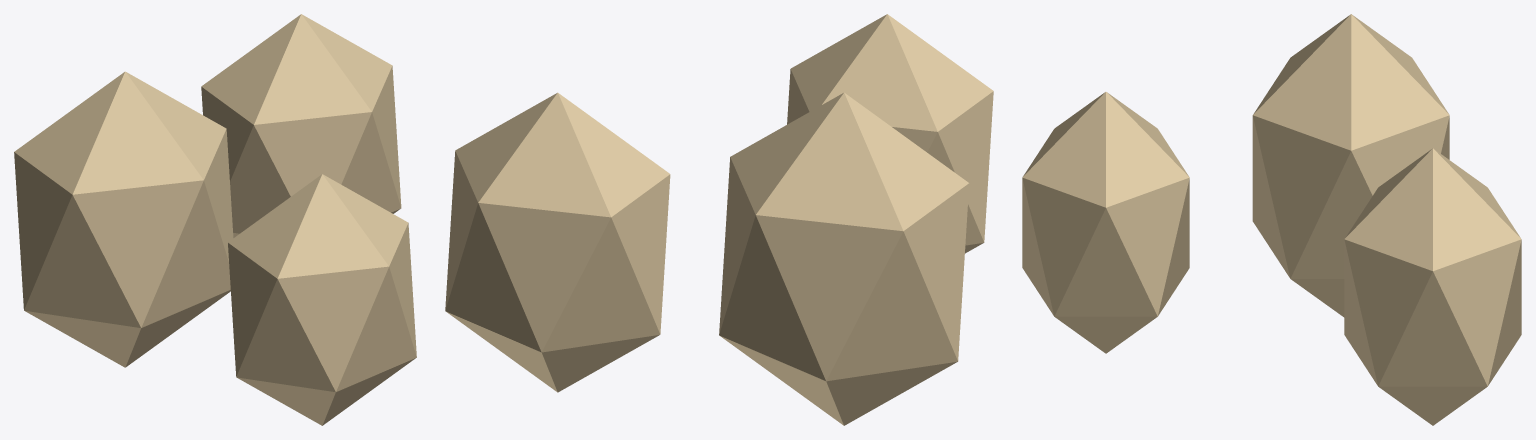
Rendered from Sacks.glb.
The picture shows the model from 3 angles, left to right: view 1: azimuth 30°, elevation 25°; view 2: azimuth 150°, elevation 25°; view 3: azimuth 270°, elevation 25°; orthographic projection. The views are drawn at different scales.
Visible parts, largest first — view 1: Sacks_Sack, Sacks_Sack.002, Sacks_Sack.001; view 2: Sacks_Sack, Sacks_Sack.001, Sacks_Sack.002; view 3: Sacks_Sack.001, Sacks_Sack, Sacks_Sack.002.
Part boxes in pixels (x1,y1,x2,y2): Sacks_Sack: (14, 71, 233, 367); Sacks_Sack.002: (228, 174, 416, 425); Sacks_Sack.001: (201, 14, 401, 237); Sacks_Sack: (719, 92, 969, 425); Sacks_Sack.001: (445, 92, 670, 392); Sacks_Sack.002: (787, 14, 993, 253); Sacks_Sack.001: (1344, 148, 1521, 425); Sacks_Sack: (1252, 14, 1449, 317); Sacks_Sack.002: (1022, 92, 1189, 353).
Size of the model in its own units: 1.8 by 1.25 by 1.83.
